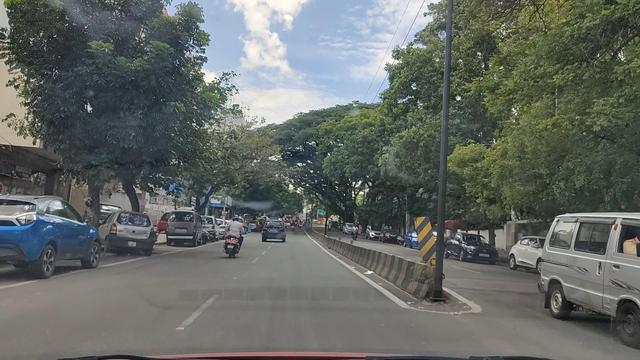LMV: (2, 202, 104, 265), (109, 213, 160, 254), (212, 213, 247, 257)
